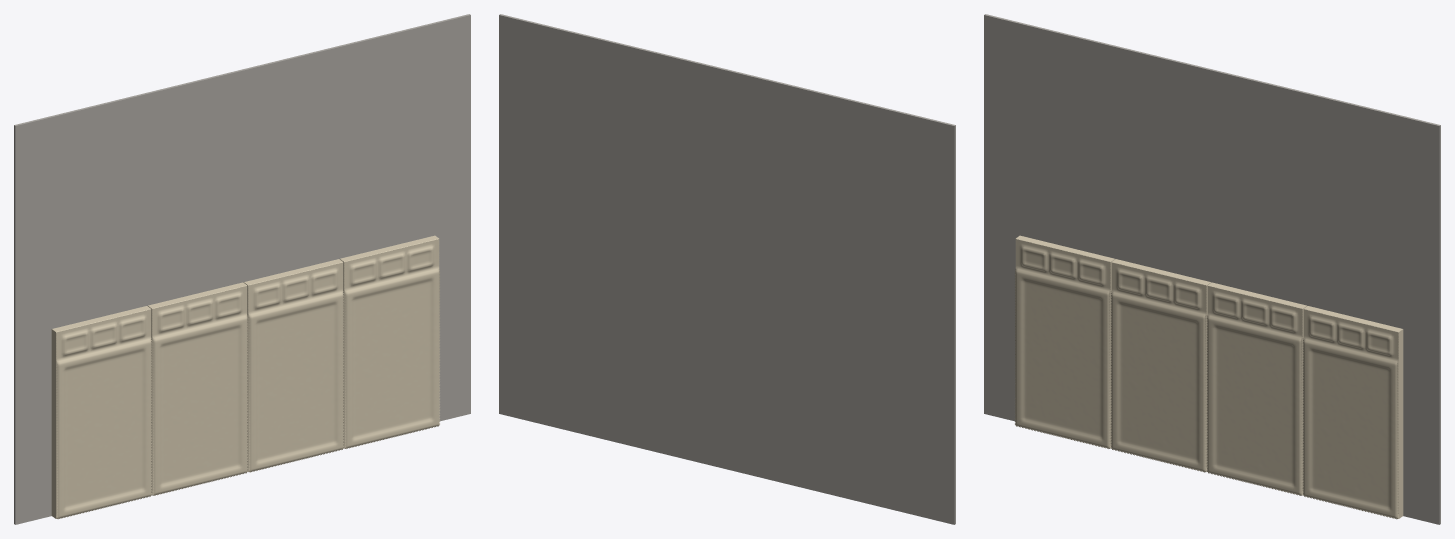
Rendered from terilgan.glb.
The picture shows the model from 3 angles, left to right: view 1: azimuth 30°, elevation 25°; view 2: azimuth 150°, elevation 25°; view 3: azimuth 330°, elevation 25°; orthographic projection.
Parts seen in each view (by area): view 1: Devor, t0, t1, t2, t3; view 2: Devor; view 3: Devor, t3, t2, t1, t0.
Boxes of the visible parts, x1,y1,x2,y2 form: Devor: (14, 14, 470, 524); t0: (51, 306, 152, 519); t1: (148, 282, 248, 495); t2: (243, 259, 343, 472); t3: (340, 235, 439, 448); Devor: (499, 14, 955, 524); Devor: (984, 14, 1440, 524); t3: (1302, 306, 1403, 519); t2: (1207, 282, 1306, 495); t1: (1111, 259, 1211, 472); t0: (1015, 235, 1114, 448).
Bounding box in the file's own units: 1.91 × 1.6 × 0.0519.
